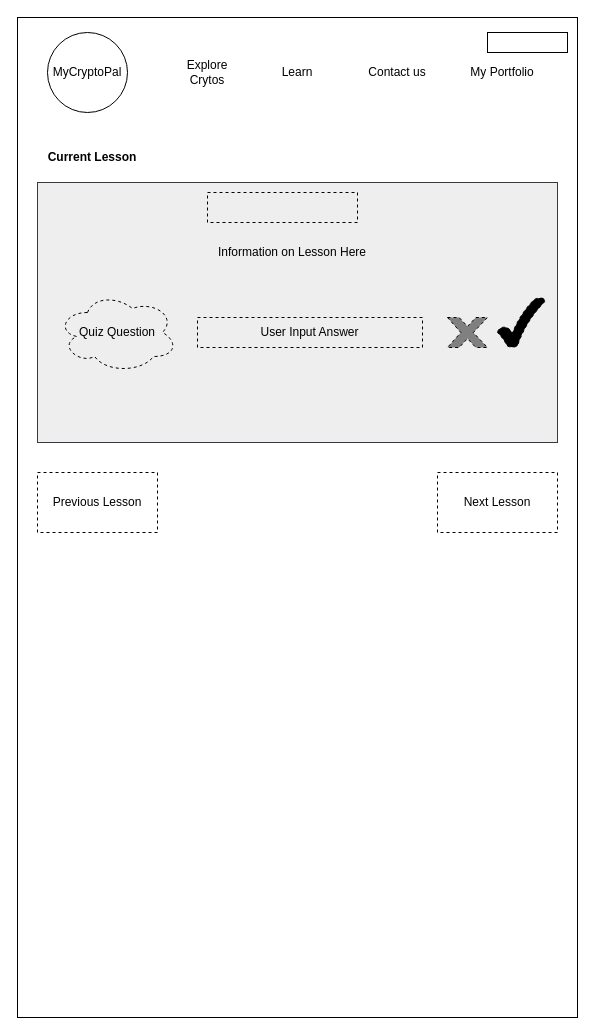
This 595x1035 diagram has some shape labels left out. Here are the shapes that lost their labels. From the top down, the centre of each, then its label:
(527,42): Log Out
(282,207): Interactive Lesson
